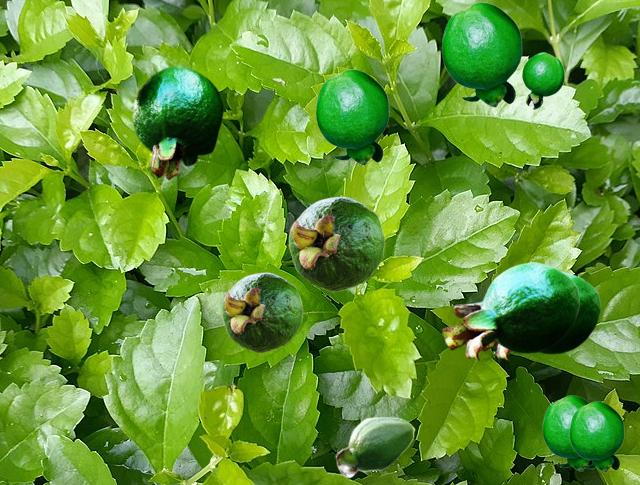guava: (441, 261, 579, 360), (482, 270, 600, 360), (132, 65, 223, 179), (288, 196, 384, 291), (441, 2, 521, 106), (315, 69, 388, 164), (221, 272, 302, 352), (335, 416, 414, 477), (569, 401, 623, 471), (542, 395, 591, 470), (522, 52, 563, 108)
